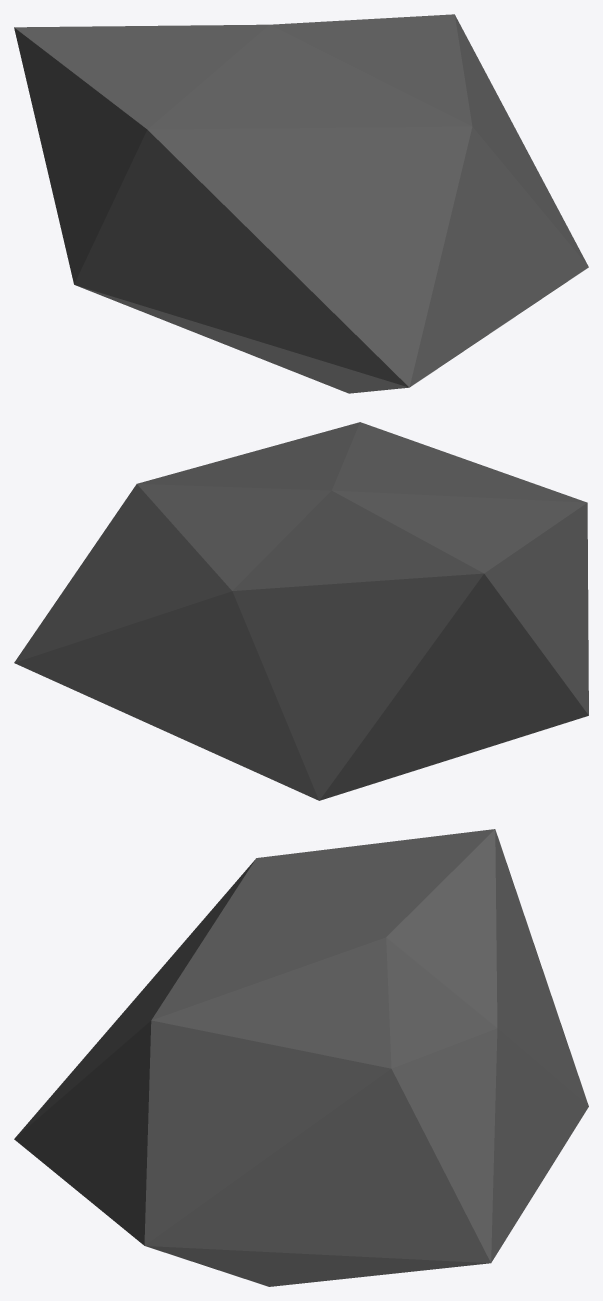
The model's file is Rock_11.fbx.
3 views of the same model, one above another, from view 1: azimuth 30°, elevation 25°; view 2: azimuth 150°, elevation 25°; view 3: azimuth 270°, elevation 25° (orthographic). The views are drawn at different scales.
Parts seen in each view (by area): view 1: M_Rock 11; view 2: M_Rock 11; view 3: M_Rock 11.
Part boxes in pixels (x1,y1,x2,y2): M_Rock 11: (14, 14, 588, 393); M_Rock 11: (14, 422, 588, 800); M_Rock 11: (14, 829, 588, 1286).
Size of the model in its own units: 2.5 by 1.69 by 2.54.
Materials: 1 (1 with a texture image).
